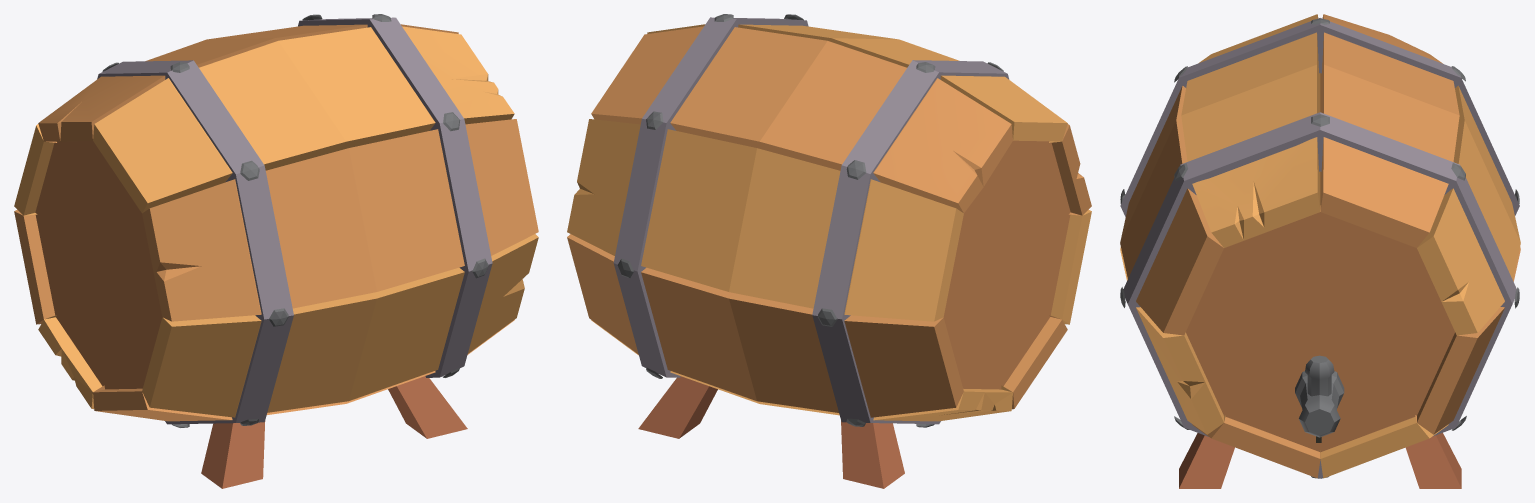
The model's file is wine barrel 1.fbx.
The picture shows the model from 3 angles, left to right: view 1: azimuth 30°, elevation 25°; view 2: azimuth 150°, elevation 25°; view 3: azimuth 270°, elevation 25°; orthographic projection.
Parts seen in each view (by area): view 1: pCube273; view 2: pCube273; view 3: pCube273.
Boxes of the visible parts, left/top/right/bottom form: pCube273: left=14, top=14, right=538, bottom=488; pCube273: left=567, top=14, right=1091, bottom=488; pCube273: left=1120, top=14, right=1520, bottom=488.
Bounding box in the file's own units: 1.36 × 1.12 × 1.11.
